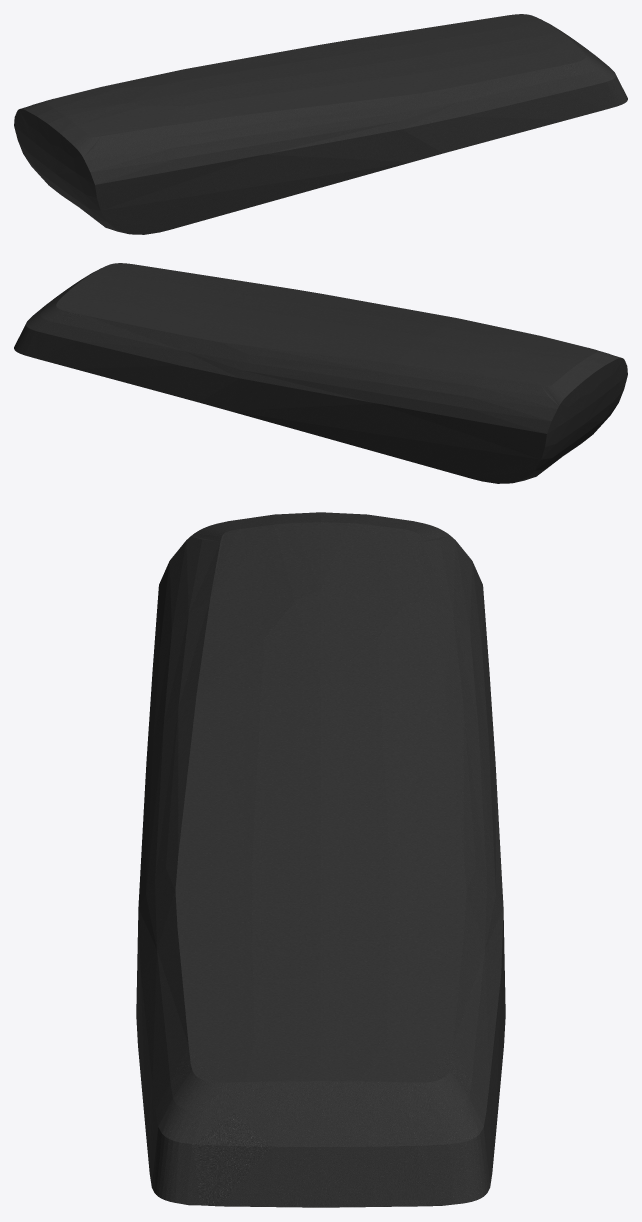
Rendered from Streetlight_11_Micro.glb.
3 views of the same model, one above another, from view 1: azimuth 30°, elevation 25°; view 2: azimuth 150°, elevation 25°; view 3: azimuth 270°, elevation 25° (orthographic). The views are drawn at different scales.
Visible parts, largest first — view 1: Siteco SL 11 micro; view 2: Siteco SL 11 micro; view 3: Siteco SL 11 micro.
Boxes of the visible parts, x1,y1,x2,y2 form: Siteco SL 11 micro: (14,14,627,234); Siteco SL 11 micro: (14,263,627,483); Siteco SL 11 micro: (136,512,505,1207).
Size of the model in its own units: 0.6 by 0.1173 by 0.1751.
Materials: 3 (2 with a texture image).
